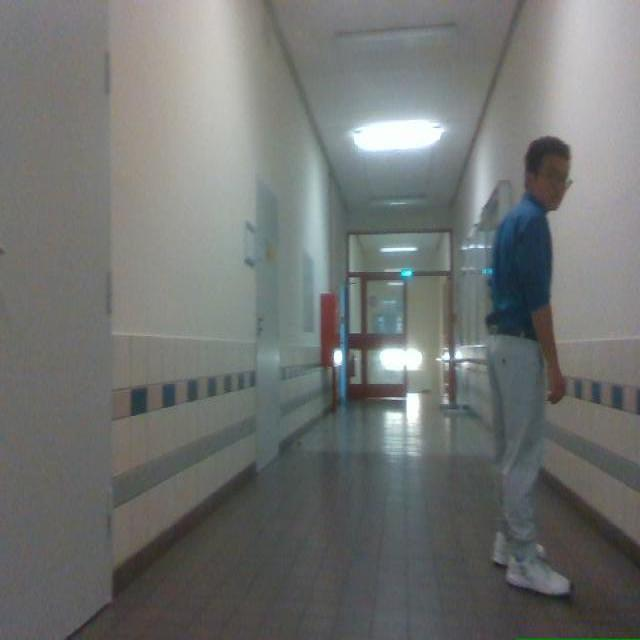humans: (488, 138, 570, 595)
